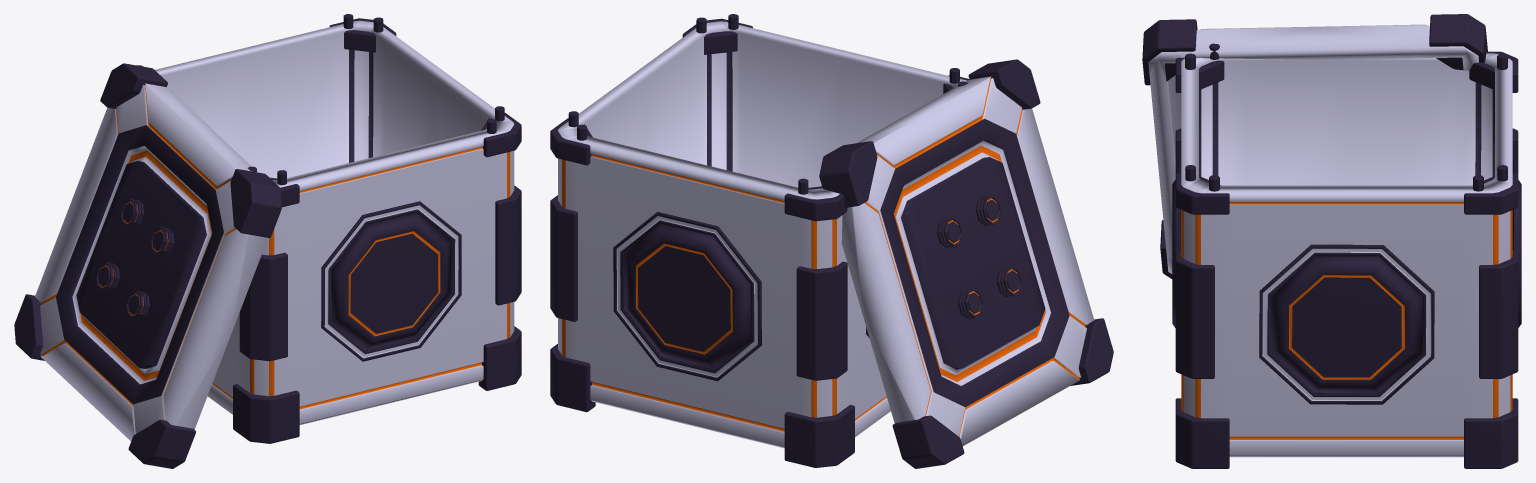
Rendered from Cofre3D_Abierto (1).fbx.
3 renders of one model, left to right at view 1: azimuth 30°, elevation 25°; view 2: azimuth 150°, elevation 25°; view 3: azimuth 270°, elevation 25°, orthographic. The views are drawn at different scales.
Visible parts, largest first — view 1: Cube.003, Cube.001; view 2: Cube.003, Cube.001; view 3: Cube.003, Cube.001.
Part boxes in pixels (x1,y1,x2,y2): Cube.003: (137, 14, 521, 443); Cube.001: (14, 63, 281, 468); Cube.003: (550, 14, 969, 467); Cube.001: (819, 59, 1113, 468); Cube.003: (1172, 43, 1521, 468); Cube.001: (1142, 14, 1487, 278).
Size of the model in its own units: 293 by 209 by 229.
